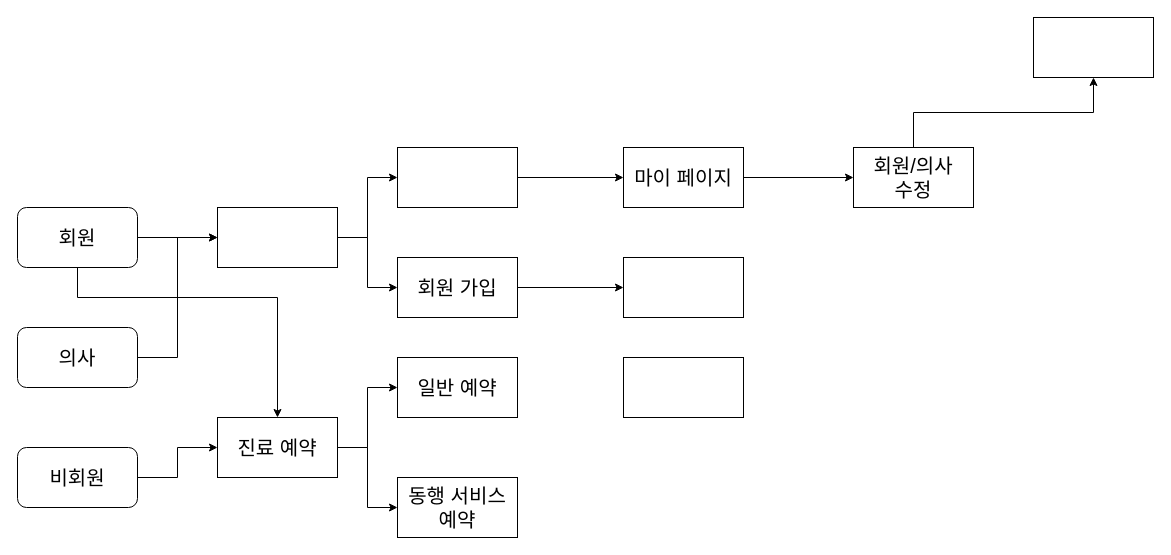
This 1171x555 diagram has some shape labels left out. The shapes that lost their labels are listed below. From the top down, each one's box as (x1, y1, x2, y2) in pixels, then its label:
(1032, 16, 1154, 78): 회원/의사 탈퇴
(396, 146, 518, 208): 로그인
(216, 206, 338, 268): 메인 메뉴
(622, 256, 744, 318): 의사/환자 체크
